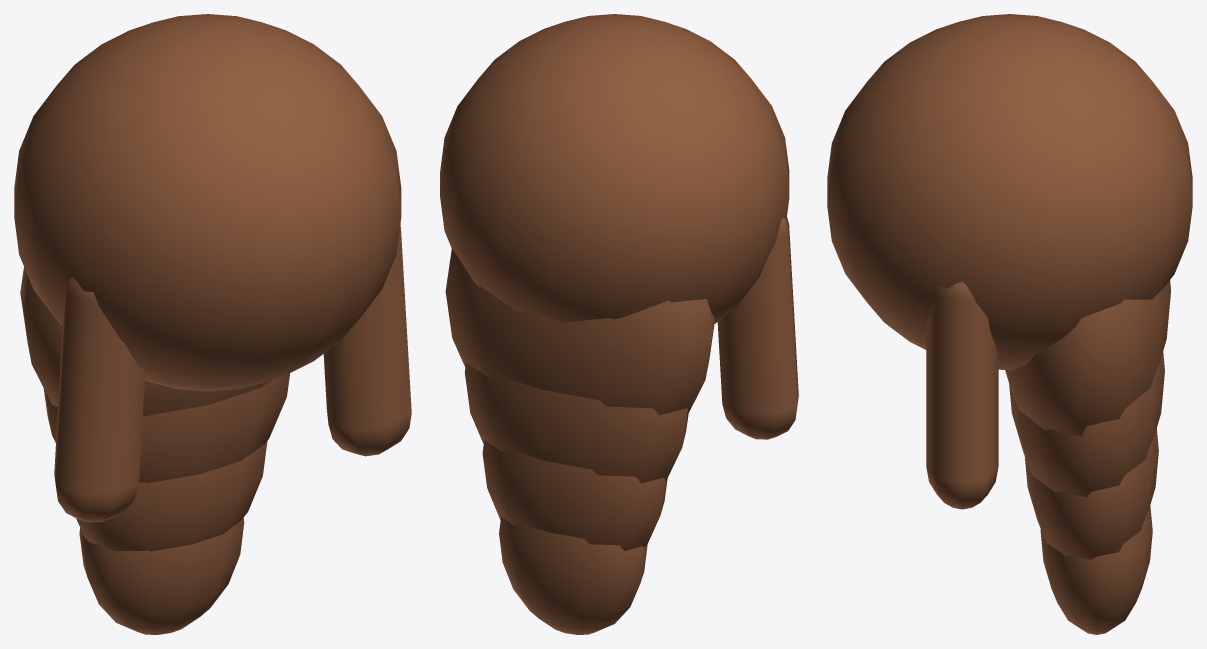
Rendered from hair_long.glb.
3 renders of one model, left to right at view 1: azimuth 30°, elevation 25°; view 2: azimuth 150°, elevation 25°; view 3: azimuth 270°, elevation 25°, orthographic. The views are drawn at different scales.
Visible parts, largest first — view 1: Hair; view 2: Hair; view 3: Hair.
Boxes of the visible parts, x1,y1,x2,y2 form: Hair: (14, 14, 411, 634); Hair: (440, 14, 798, 634); Hair: (827, 14, 1192, 634).
Size of the model in its own units: 14.09 by 24 by 13.33.
